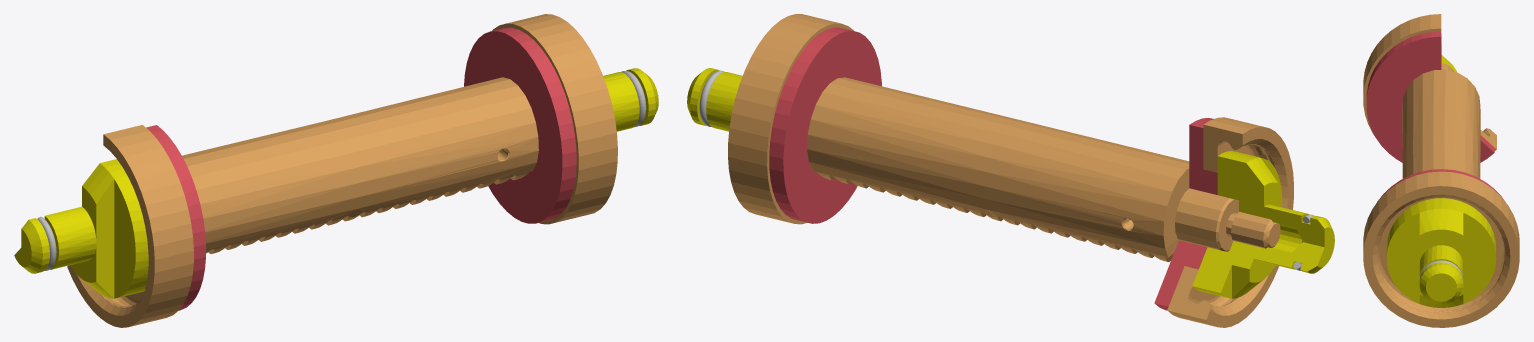
The model's file is bras2.glb.
3 views of the same model, side by side, from view 1: azimuth 30°, elevation 25°; view 2: azimuth 150°, elevation 25°; view 3: azimuth 270°, elevation 25° (orthographic). The views are drawn at different scales.
Bounding box in the file's own units: 0.00471 × 0.00134 × 0.00134.
